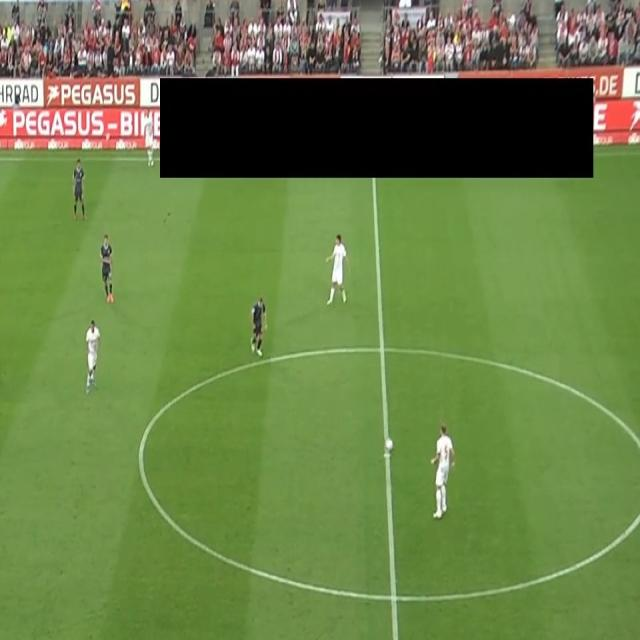ball: (384, 435, 394, 453)
